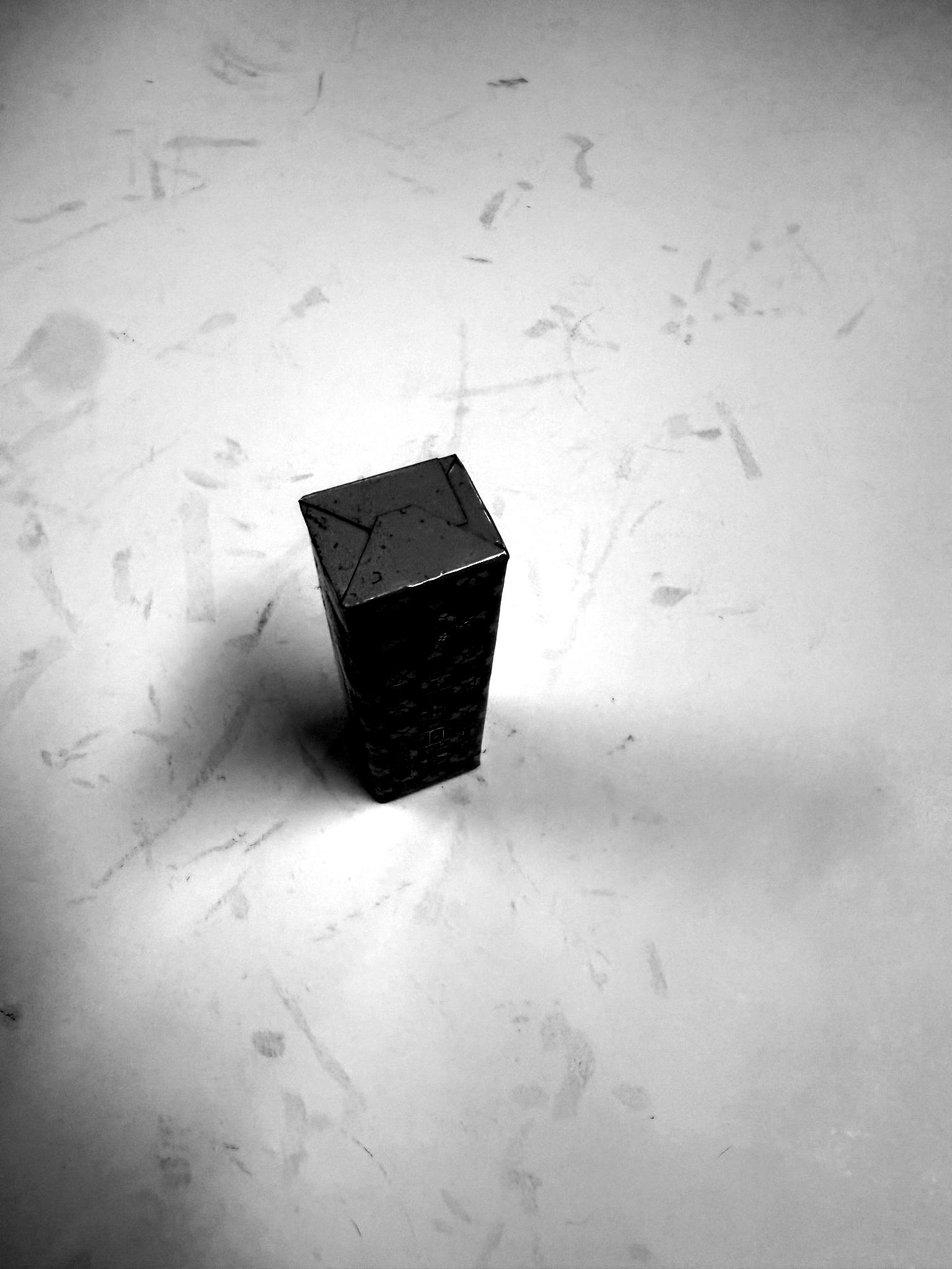gum_yellow: (302, 453, 505, 806)
